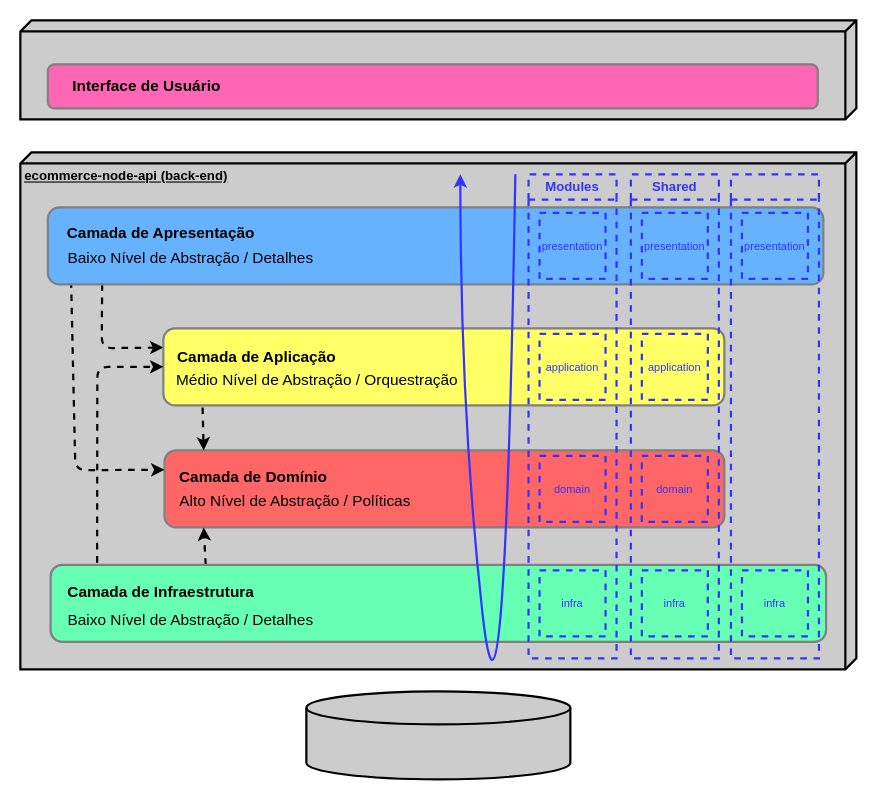
Some shapes in this 876 by 799 pixel diagram are drawn without their labels. Each missing label, with the box of its shape:
Database (Relacional): (305, 690, 571, 780)
ecommerce-web-app (front-end): (19, 19, 857, 120)
Main: (729, 173, 820, 659)
